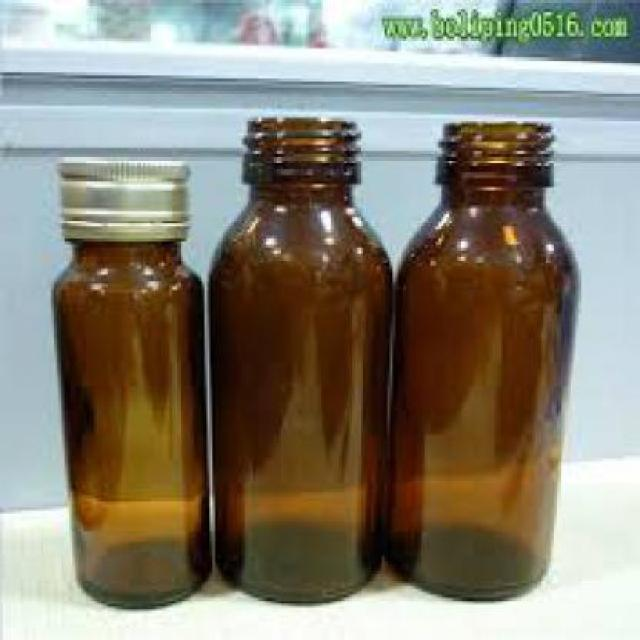kaca: (382, 119, 578, 598), (205, 116, 392, 602), (52, 239, 211, 606)
